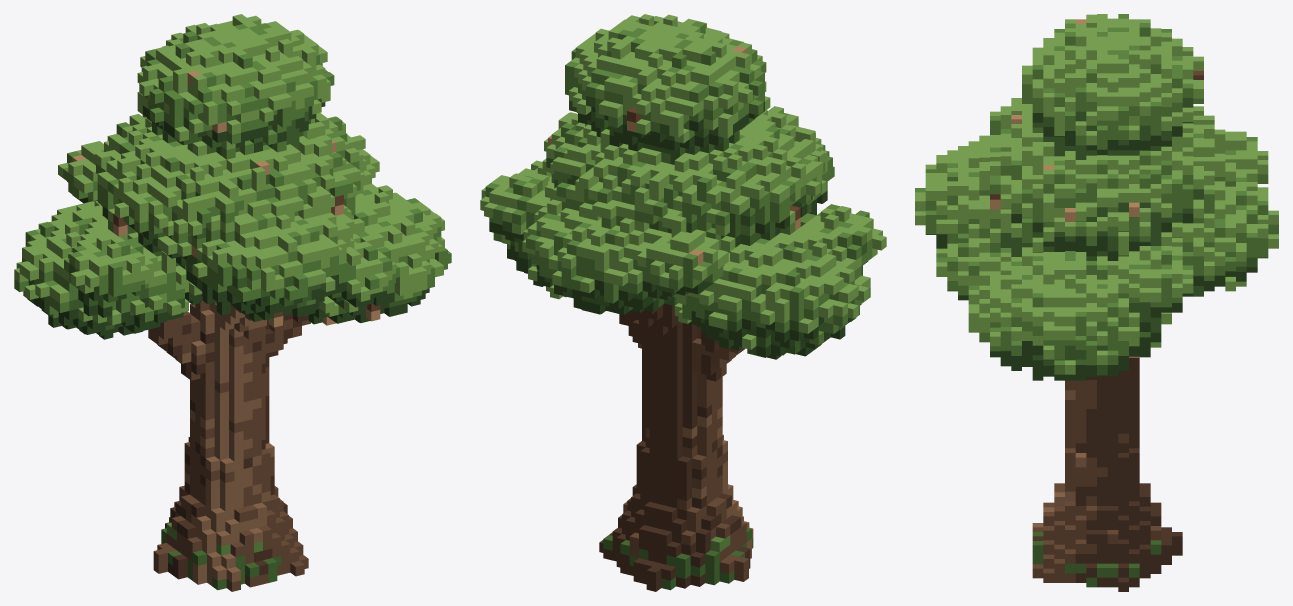
Rendered from Mountain_Oak.fbx.
3 renders of one model, left to right at view 1: azimuth 30°, elevation 25°; view 2: azimuth 150°, elevation 25°; view 3: azimuth 270°, elevation 25°, orthographic.
Parts seen in each view (by area): view 1: Mountain_Oak; view 2: Mountain_Oak; view 3: Mountain_Oak.
Boxes of the visible parts, x1,y1,x2,y2 form: Mountain_Oak: (14, 14, 451, 591); Mountain_Oak: (480, 14, 886, 591); Mountain_Oak: (915, 14, 1278, 591).
Size of the model in its own units: 2.73 by 3.6 by 2.27.
Materials: 1 (1 with a texture image).
